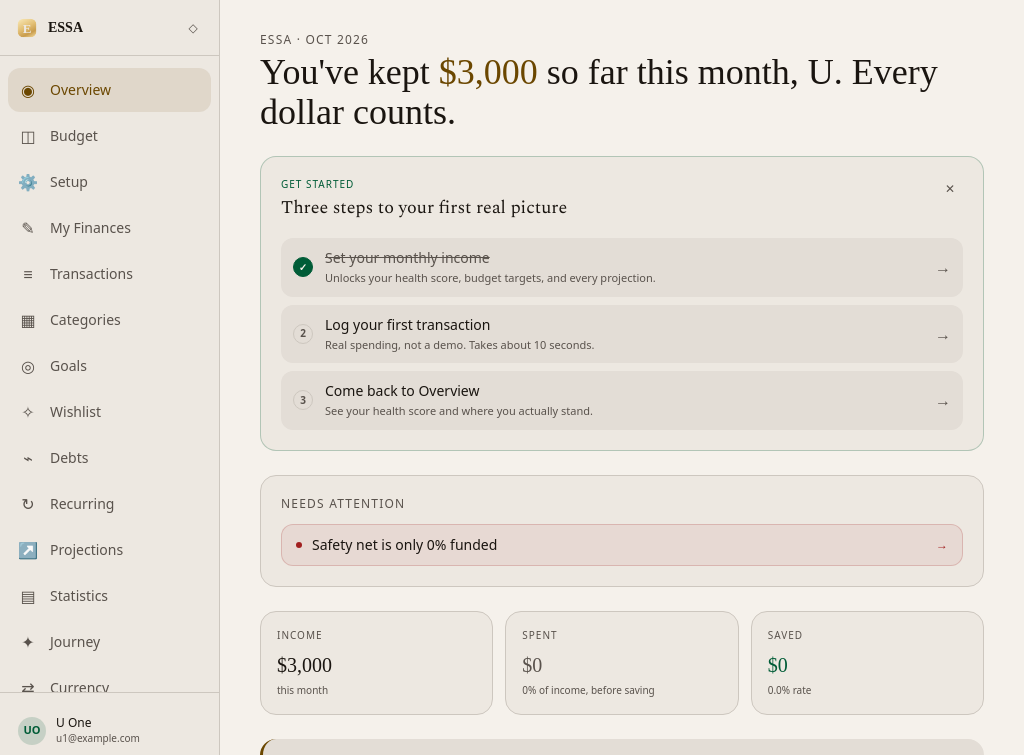
Test: ERR-02: a failed backup › Try again retries at once
Expected: the button "⚙ Setup" is shown, x1=8 y1=160 x2=211 y2=204
Click the button "✧ Wishlist" at (110, 412), box x1=8 y1=390 x2=211 y2=434
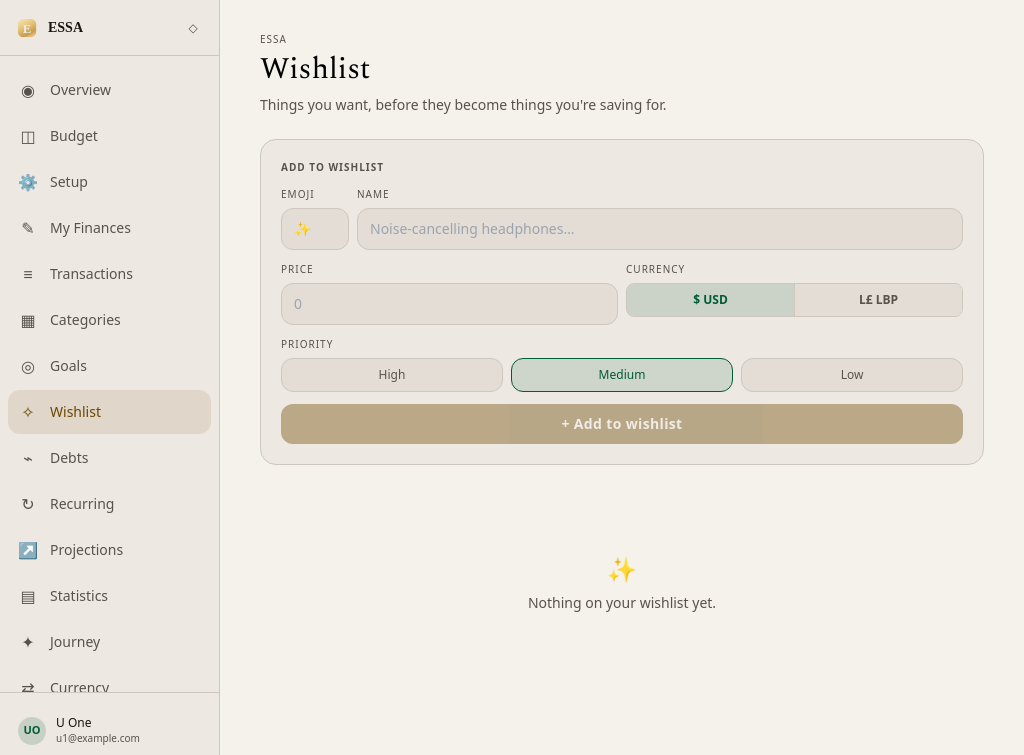
Type "Amber stool" into the field with id "wish-name" at (660, 229), box x1=357 y1=208 x2=963 y2=250
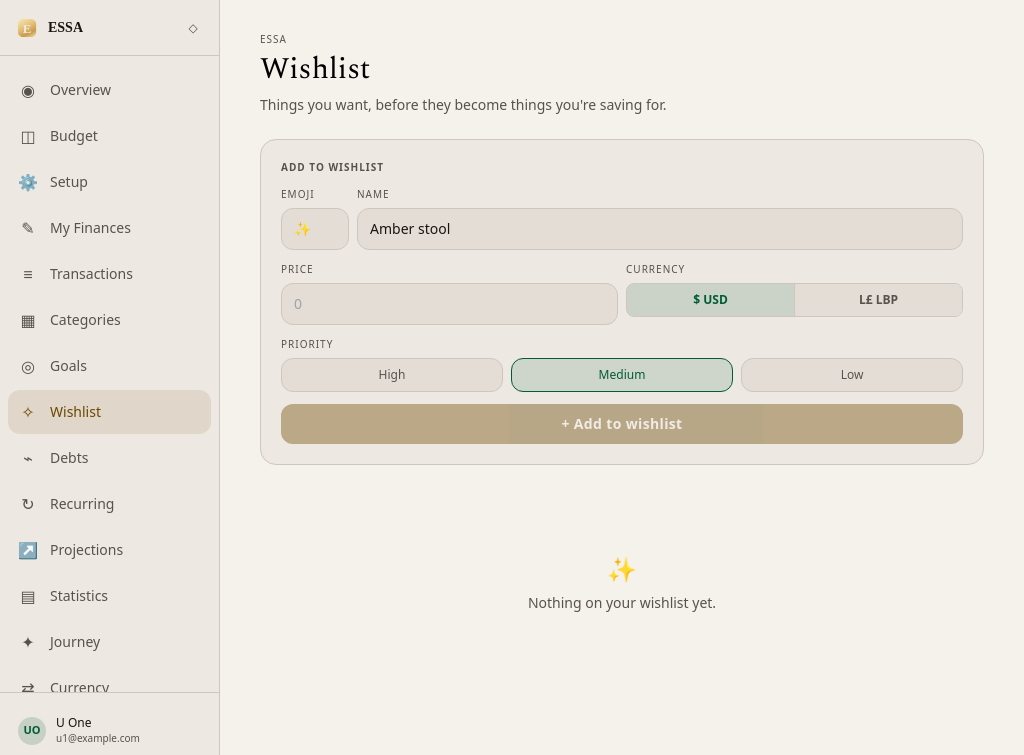
Type "22.15" into the field with id "wish-price" at (450, 304), box x1=281 y1=283 x2=618 y2=325
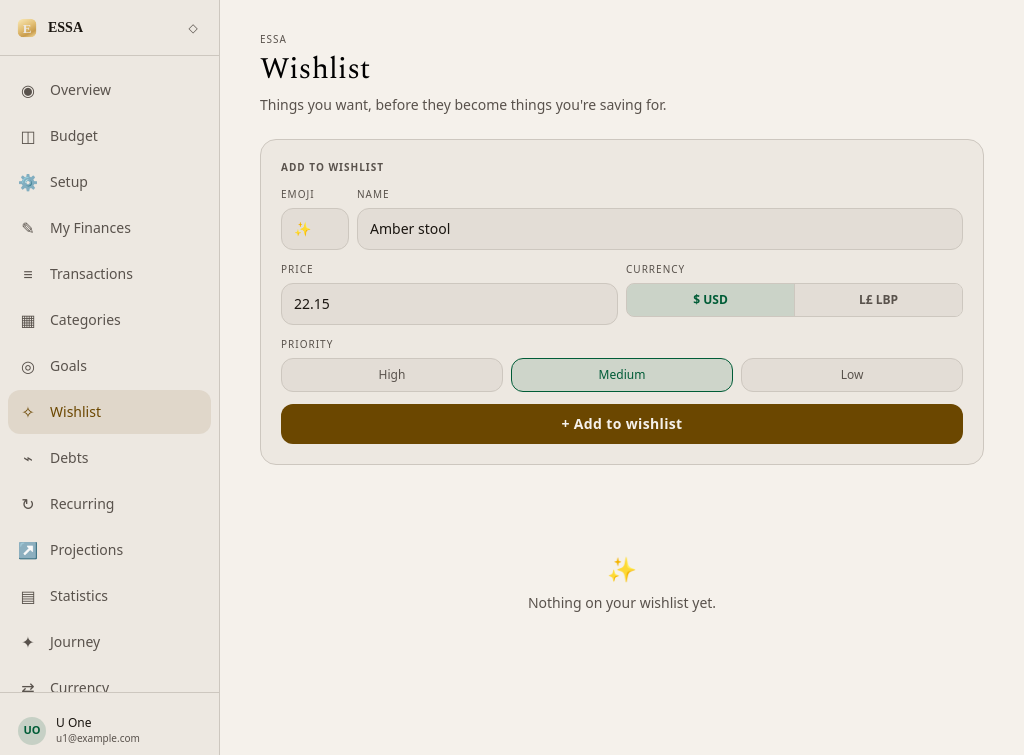
Click the button "+ Add to wishlist" at (622, 424), box x1=281 y1=404 x2=963 y2=444
Wait 3000 ms
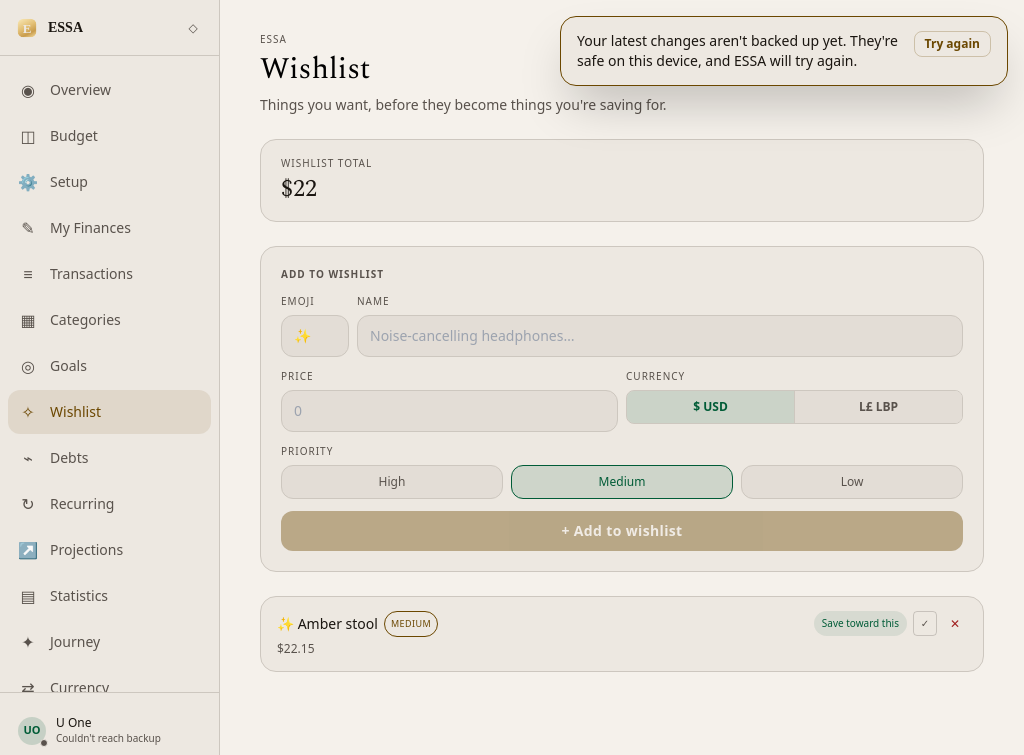
Click the button "Try again" at (952, 44), box x1=914 y1=31 x2=991 y2=57
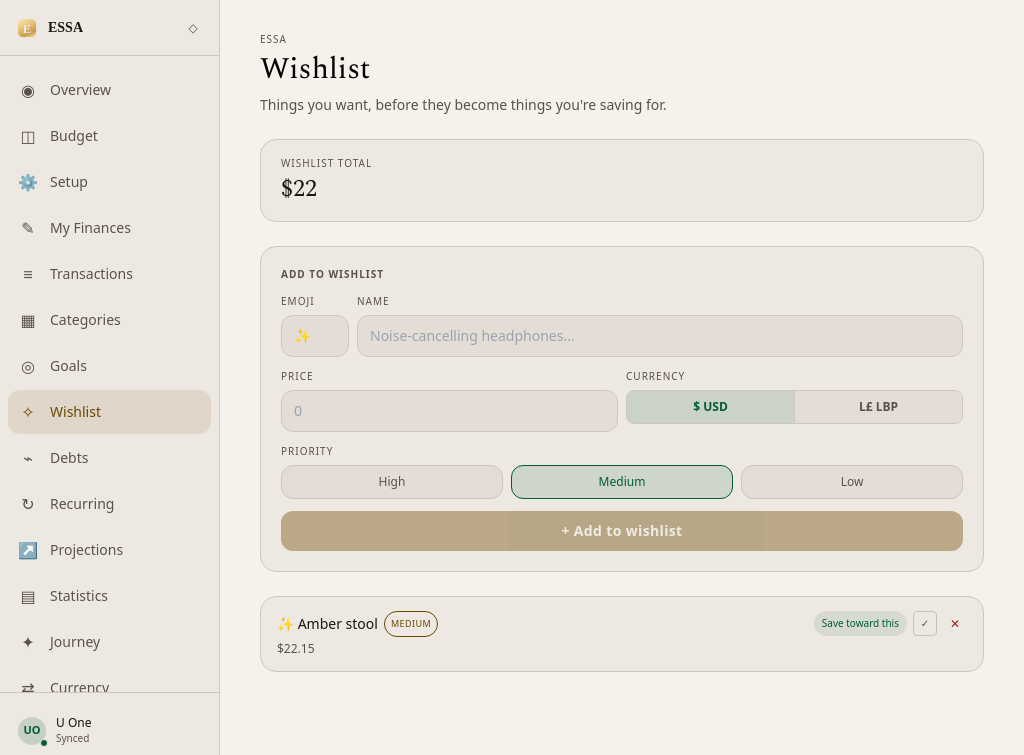
Result: the text "Your latest changes aren't backed up yet. They're safe on this device, and ESSA will try again." is gone
